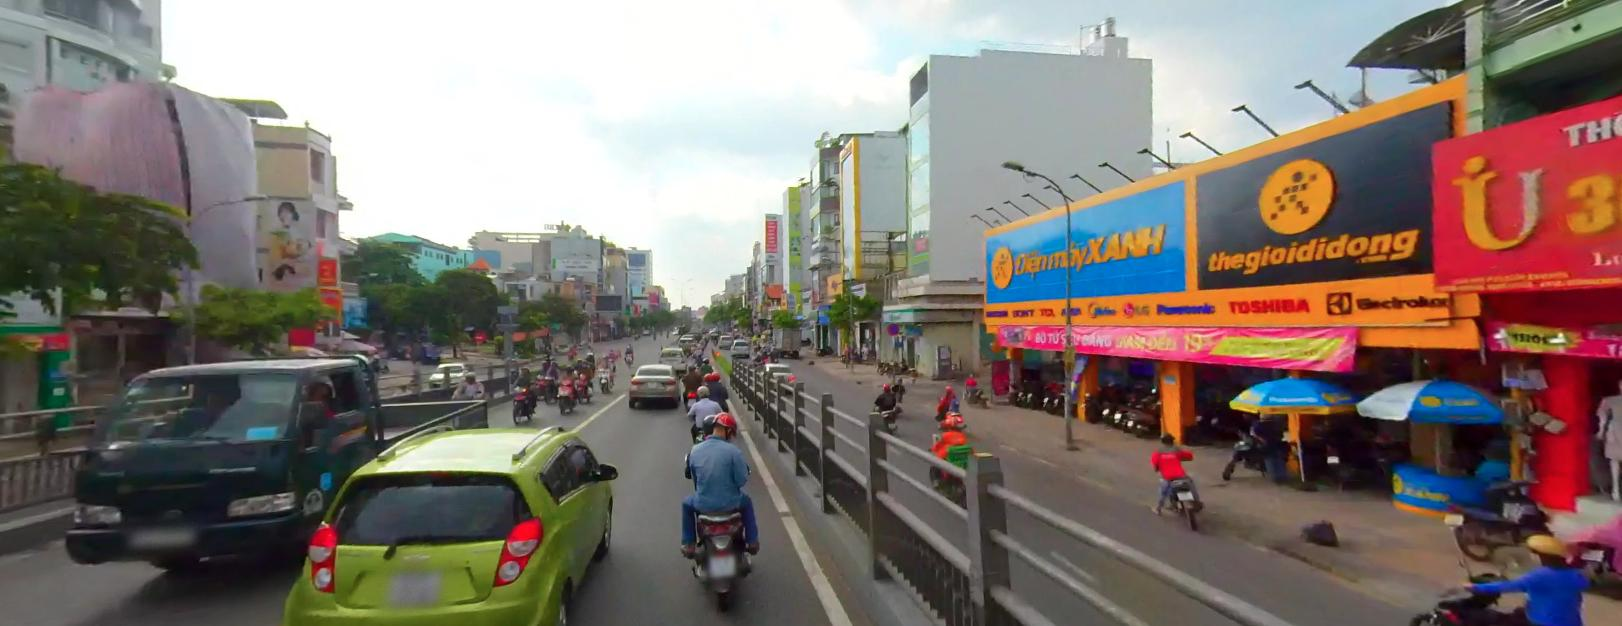Cam dung va do: (887, 321, 898, 333)
Cam nguoc chieu: (473, 331, 484, 341)
